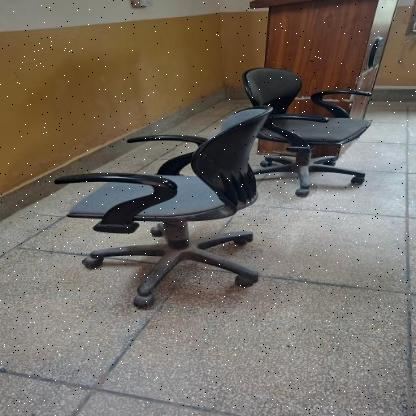chair: (44, 99, 284, 314), (236, 56, 382, 196)
